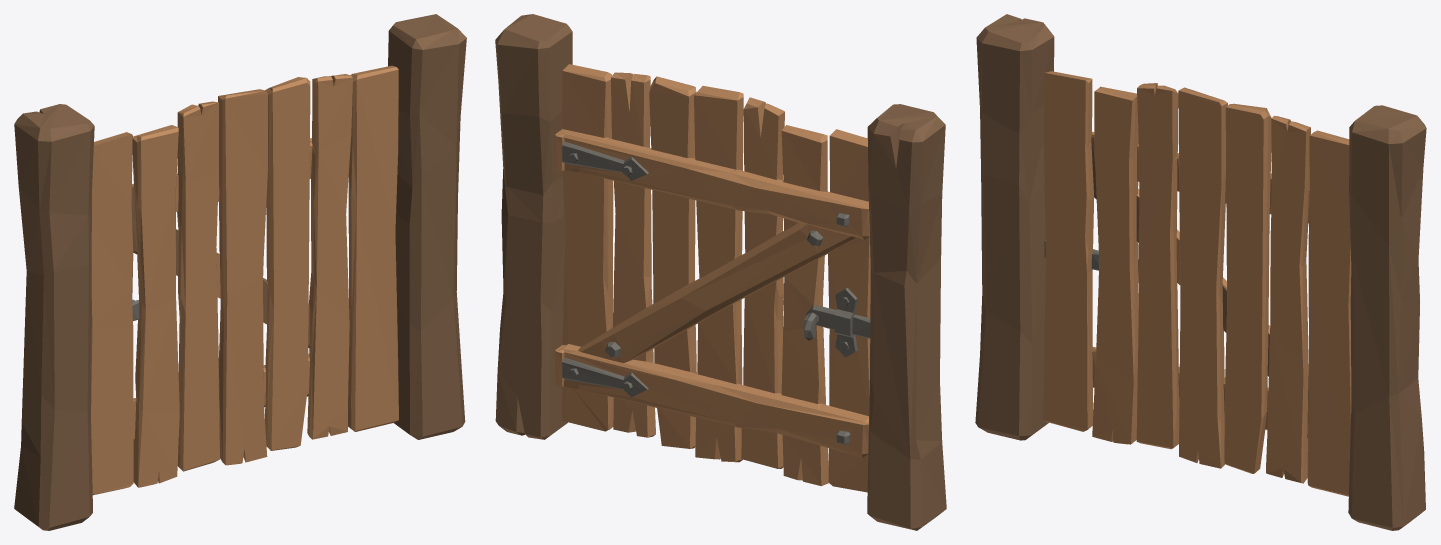
The model's file is WoodenGate.fbx.
The picture shows the model from 3 angles, left to right: view 1: azimuth 30°, elevation 25°; view 2: azimuth 150°, elevation 25°; view 3: azimuth 330°, elevation 25°; orthographic projection.
Parts seen in each view (by area): view 1: WoodenGate_Part1, WoodenGate_Main; view 2: WoodenGate_Part1, WoodenGate_Main; view 3: WoodenGate_Part1, WoodenGate_Main.
Part boxes in pixels (x1,y1,x2,y2): WoodenGate_Part1: (91, 65, 398, 495); WoodenGate_Main: (14, 14, 466, 530); WoodenGate_Part1: (555, 64, 870, 492); WoodenGate_Main: (495, 14, 946, 530); WoodenGate_Part1: (1043, 71, 1351, 496); WoodenGate_Main: (975, 14, 1426, 530).
Bounding box in the file's own units: 1.36 × 0.1797 × 1.23.
